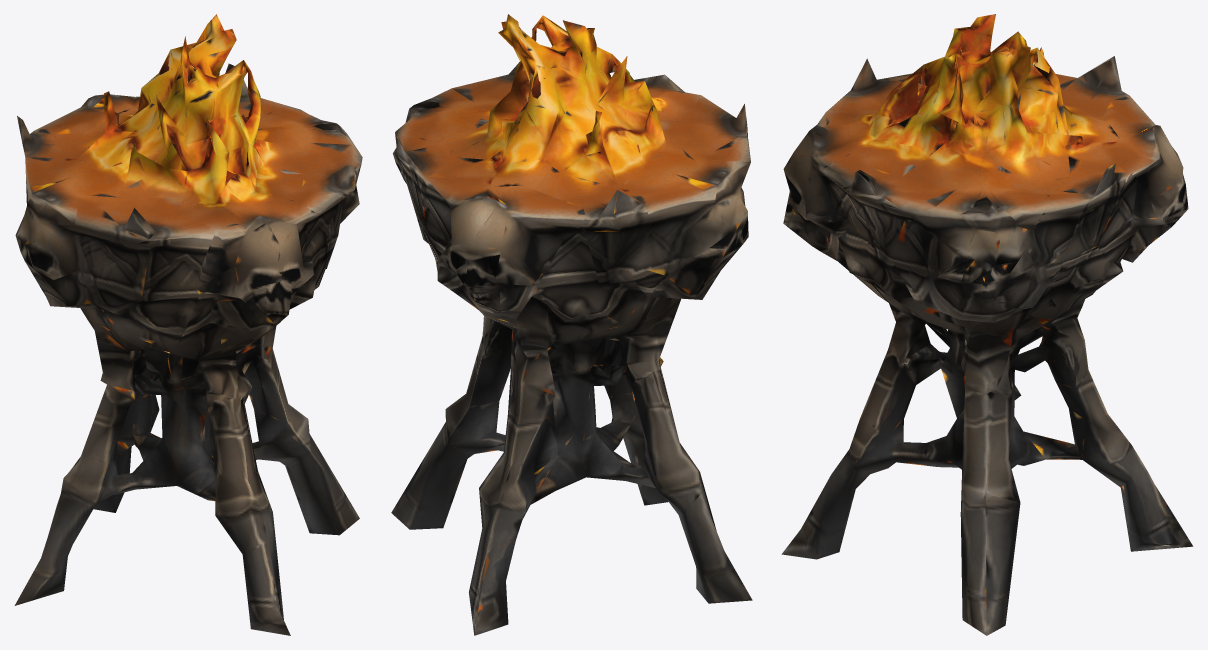
File: brazier_ornate_boss.glb
3 views of the same model, side by side, from view 1: azimuth 30°, elevation 25°; view 2: azimuth 150°, elevation 25°; view 3: azimuth 270°, elevation 25° (orthographic). The views are drawn at different scales.
Size of the model in its own units: 1.36 by 1.98 by 1.36.
1 material, 1 textured.
